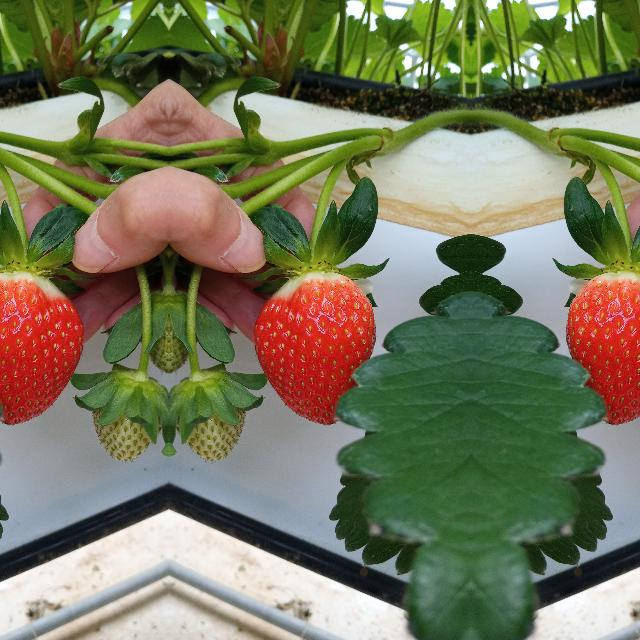Health_100: (252, 270, 376, 426), (0, 270, 84, 426), (564, 270, 640, 426)
Health_25: (172, 364, 254, 456), (82, 364, 164, 456)
